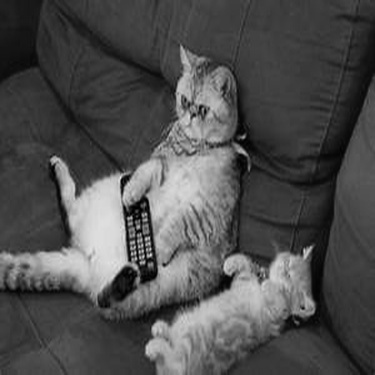cat: (4, 41, 232, 317), (128, 240, 325, 369)
